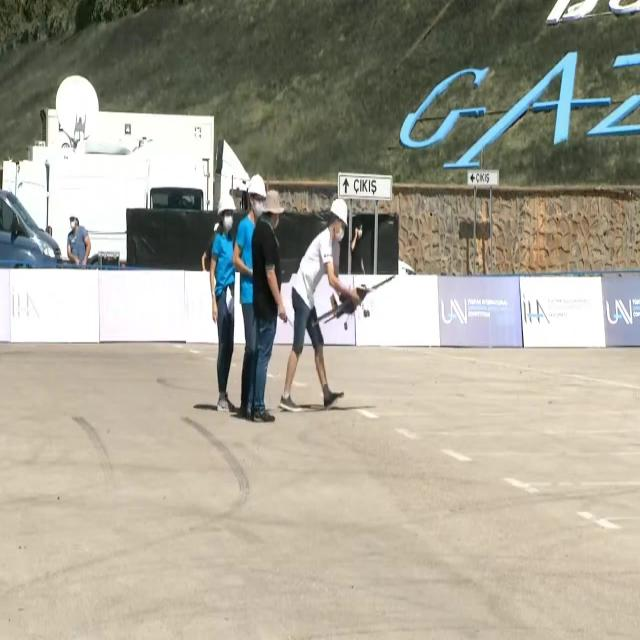iha: (342, 272, 365, 330)
